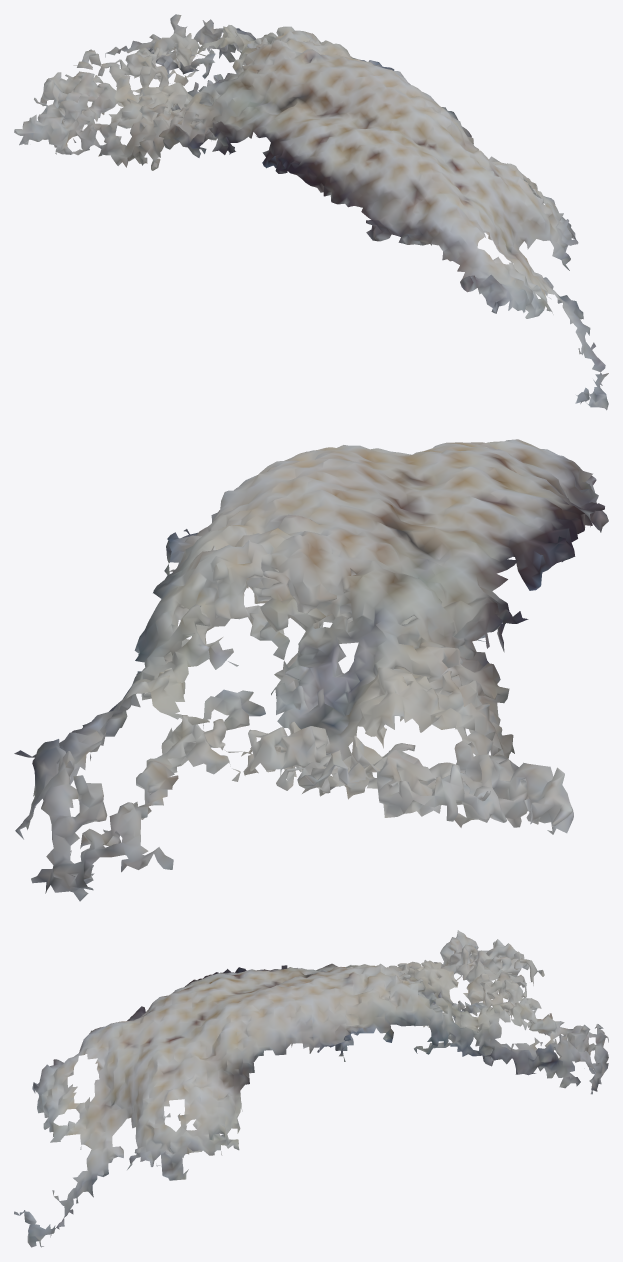
Rendered from octopus.glb.
3 renders of one model, top to bottom at view 1: azimuth 30°, elevation 25°; view 2: azimuth 150°, elevation 25°; view 3: azimuth 270°, elevation 25°, orthographic. The views are drawn at different scales.
Parts seen in each view (by area): view 1: octopus; view 2: octopus; view 3: octopus.
Boxes of the visible parts, x1,y1,x2,y2 form: octopus: (14, 14, 608, 410); octopus: (14, 439, 608, 901); octopus: (14, 930, 608, 1247).
Size of the model in its own units: 0.1308 by 0.0821 by 0.1947.
